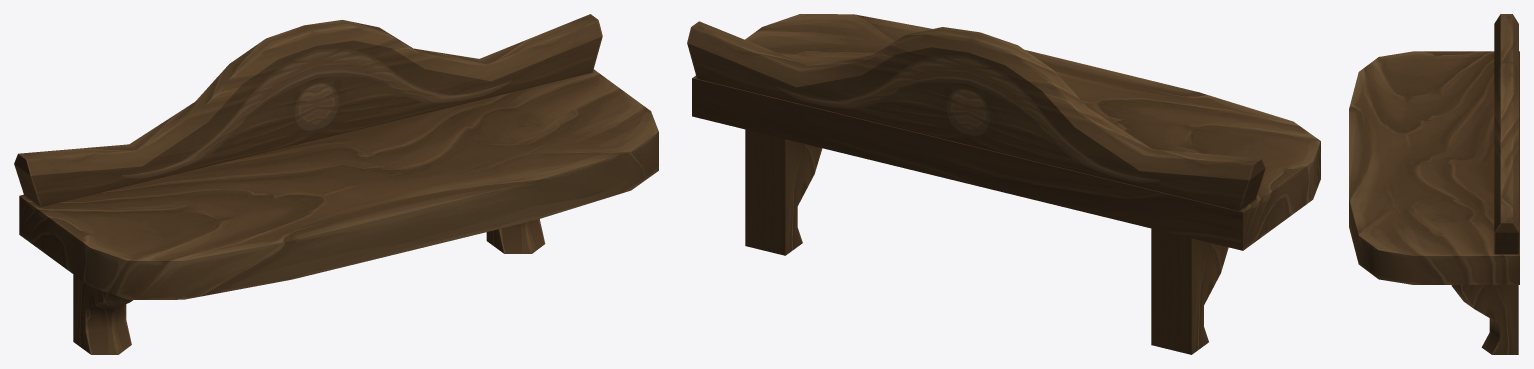
Rendered from Shelf.FBX.
The picture shows the model from 3 angles, left to right: view 1: azimuth 30°, elevation 25°; view 2: azimuth 150°, elevation 25°; view 3: azimuth 270°, elevation 25°; orthographic projection. The views are drawn at different scales.
Parts seen in each view (by area): view 1: Shelf; view 2: Shelf; view 3: Shelf.
Boxes of the visible parts, left/top/right/bottom form: Shelf: left=14, top=14, right=658, bottom=354; Shelf: left=687, top=14, right=1320, bottom=354; Shelf: left=1349, top=14, right=1519, bottom=354.
Size of the model in its own units: 1348 by 594 by 466.
